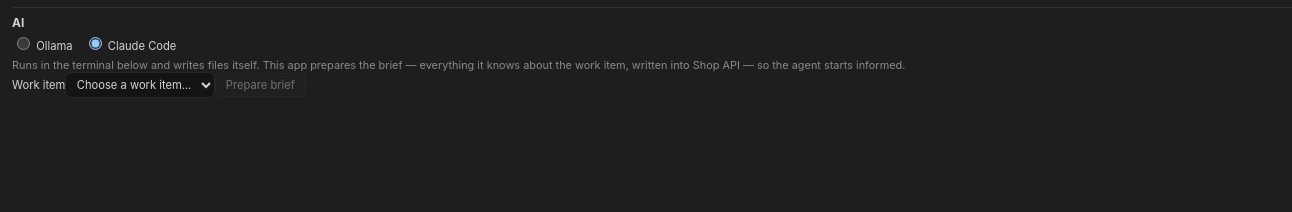
Test case: AiPanel › will not offer to run with no terminal open
The image size is (1292, 212).
Select "Add checkout" in the dropdown named "Work item to hand over" at (140, 85), box [65,72,215,98]
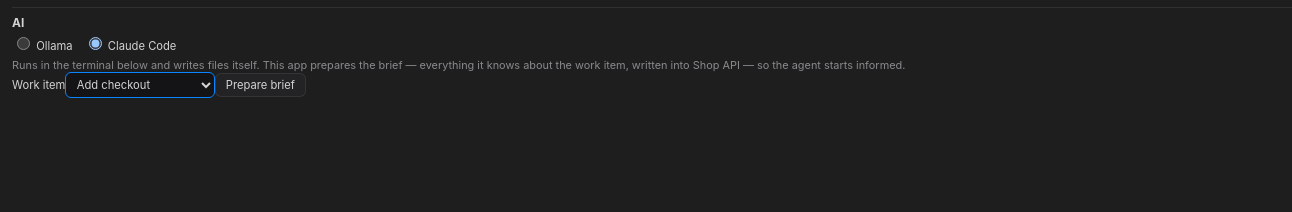
Click the button "Prepare brief" at (260, 85), box [215,73,306,98]
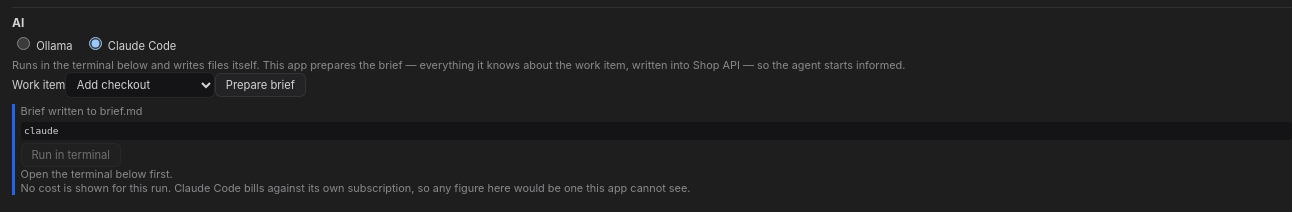
Check: the button "Run in terminal" is disabled, box [21,143,121,167]
Check: the text "Open the terminal below first." is shown, box [21,167,173,181]
